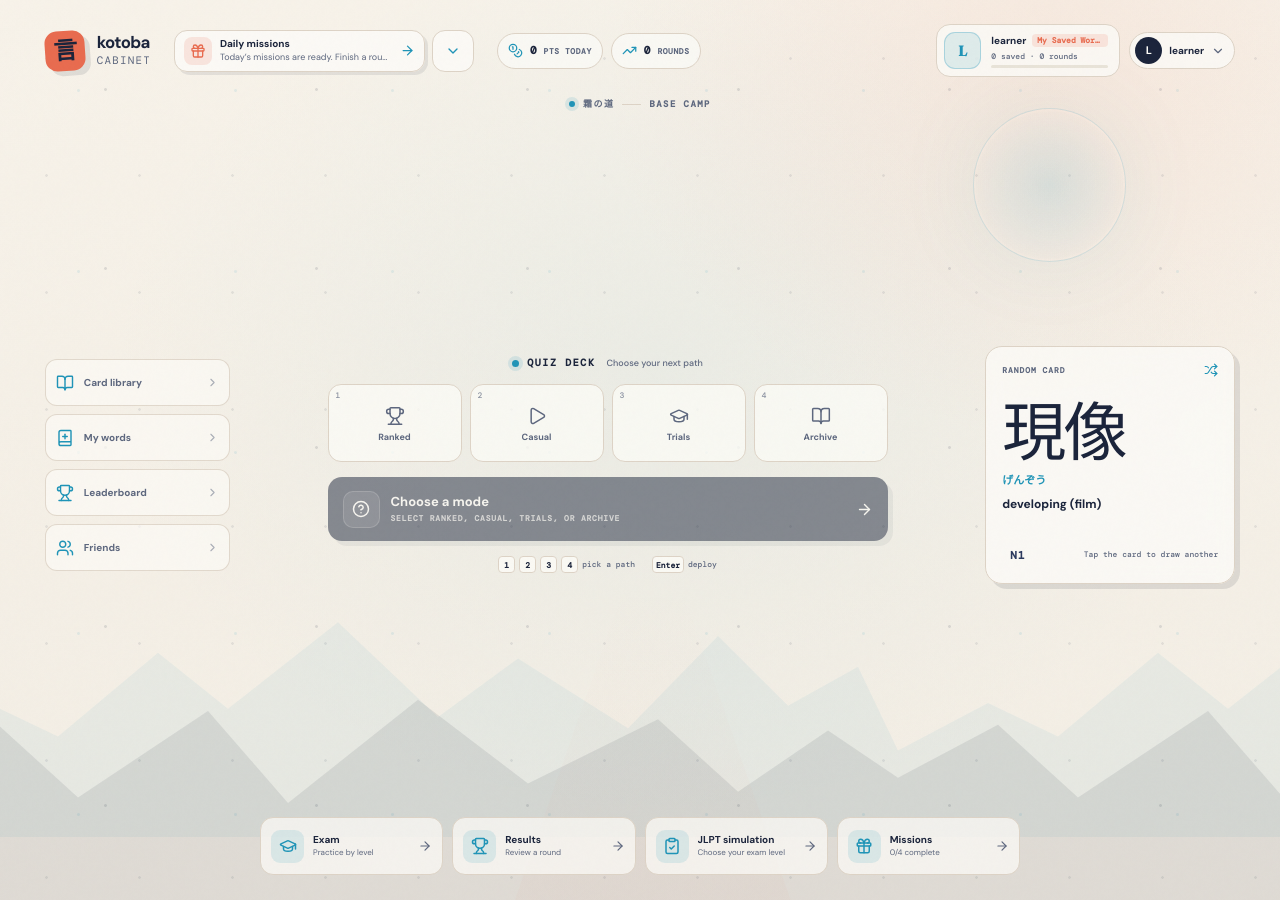
Test: Winter Archive lobby › closes the header menu with Escape and releases the scroll lock
Click the button with test id "button-home-menu".
click(65, 51)  # box left=44, top=29, right=86, bottom=72
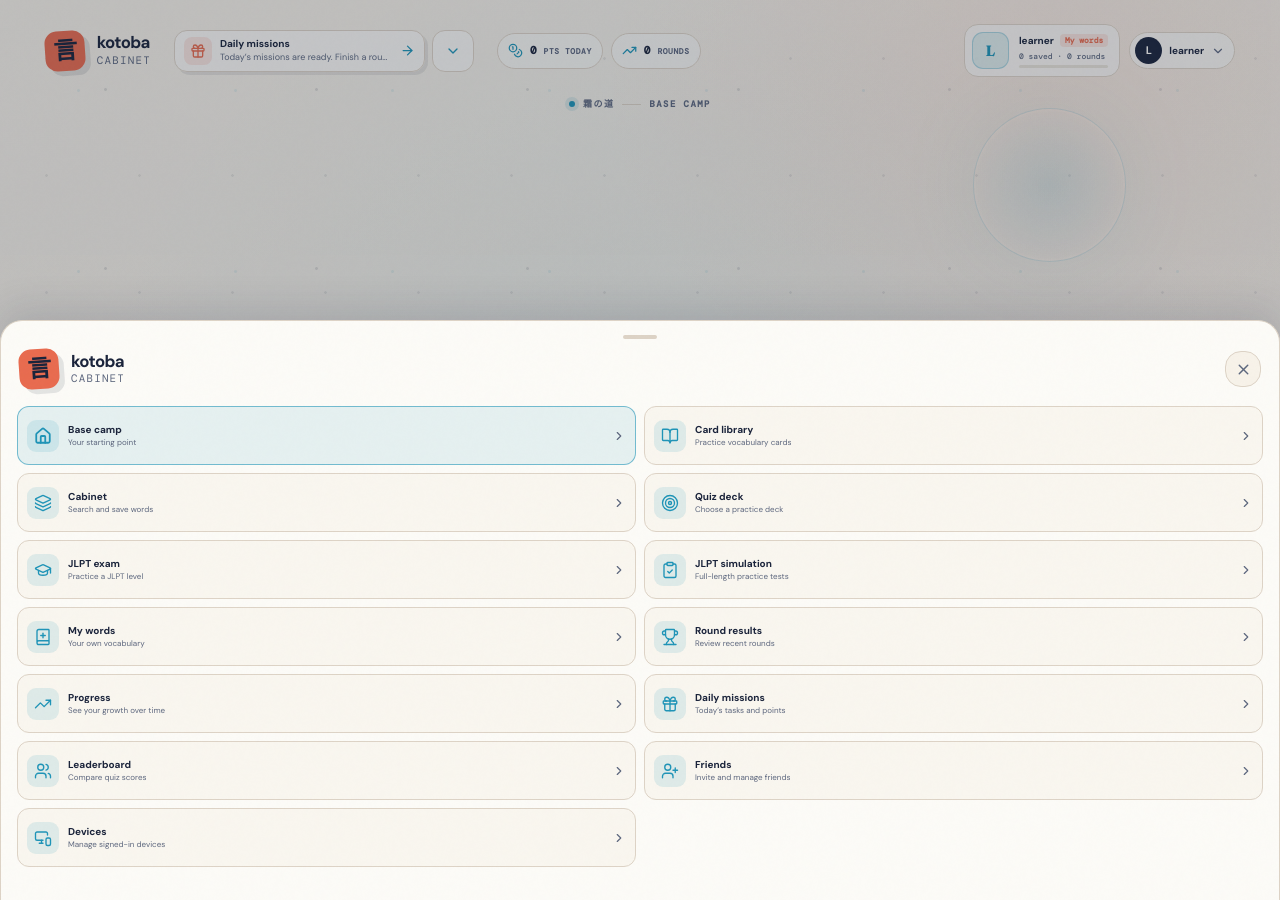
Press Escape
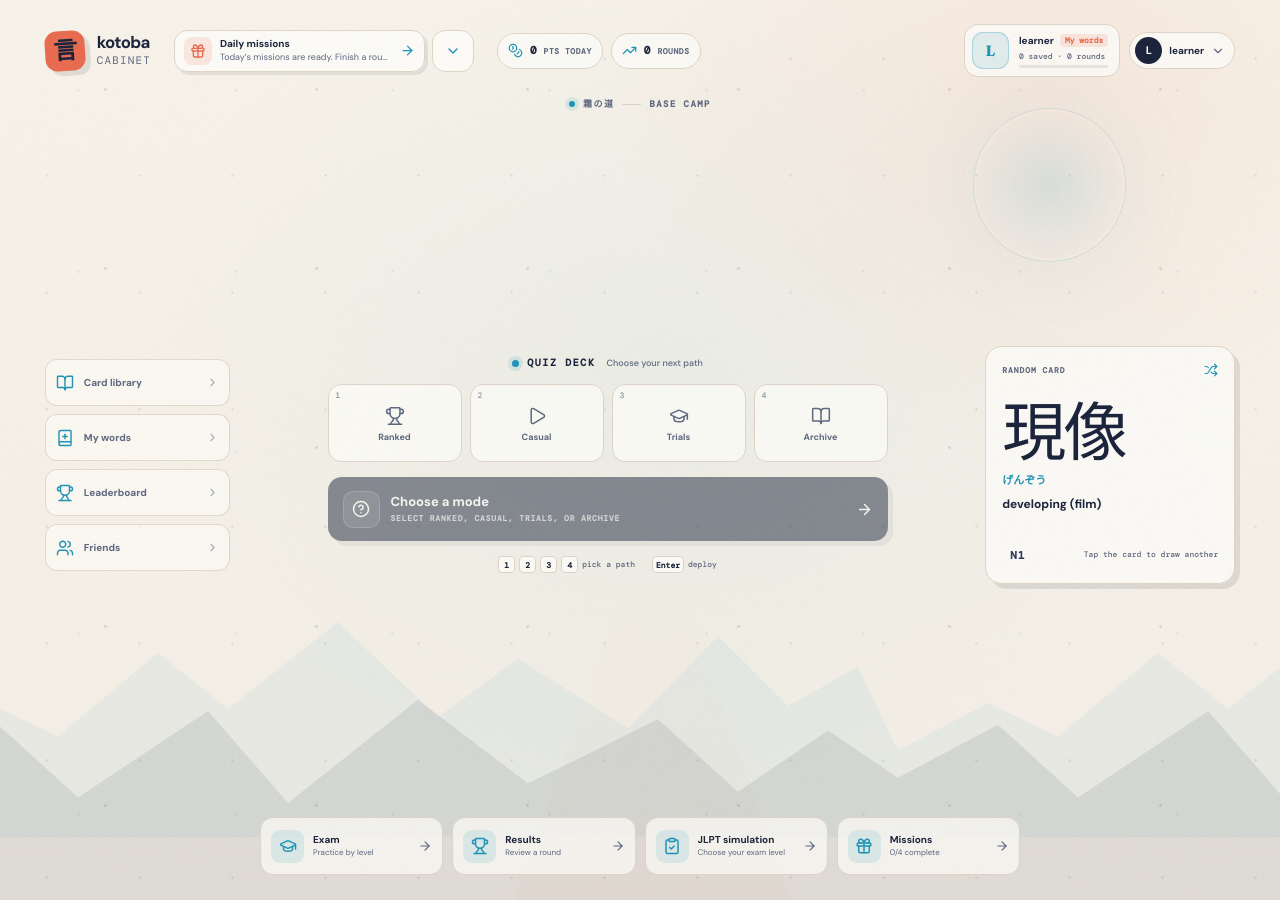
Now the button with test id "button-home-menu" is collapsed, box left=44, top=29, right=86, bottom=72
Now the button "Menu" is gone
